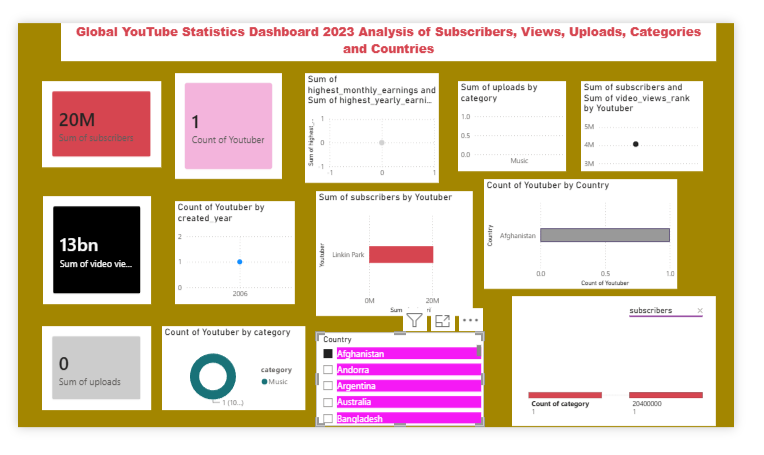

The dashboard page shown, as its layout file describes it:
{"tool":"powerbi","page":{"name":"Page 1","canvas":[1280,720],"ordinal":0},"visuals":[{"type":"cardVisual","fields":{"Data":["Sum(Global YouTube Statistics.subscribers)"]},"box":[42.9,103.6,212.5,153.6],"z":0},{"type":"cardVisual","fields":{"Data":["Sum(Global YouTube Statistics.video views)"]},"box":[44.6,308.9,192.9,192.9],"z":1000},{"type":"cardVisual","fields":{"Data":["Sum(Global YouTube Statistics.uploads)"]},"box":[42.9,541.1,194.6,150],"z":2000},{"type":"cardVisual","fields":{"Data":["Count(Global YouTube Statistics.Youtuber)"]},"box":[280.4,89.3,191.1,189.3],"z":3000},{"type":"clusteredBarChart","fields":{"Category":["Global YouTube Statistics.Youtuber"],"Y":["Sum(Global YouTube Statistics.subscribers)"]},"box":[532.1,300,280.4,223.2],"z":4000},{"type":"decompositionTreeVisual","fields":{"Analyze":["CountNonNull(Global YouTube Statistics.category)"],"ExplainBy":["Global YouTube Statistics.subscribers"]},"box":[882.1,487.5,364.3,232.1],"z":5000},{"type":"clusteredBarChart","fields":{"Y":["CountNonNull(Global YouTube Statistics.Youtuber)"],"Category":["Global YouTube Statistics.Country"]},"box":[832.1,278.6,344.6,196.4],"z":6000},{"type":"donutChart","fields":{"Category":["Global YouTube Statistics.category"],"Y":["CountNonNull(Global YouTube Statistics.Youtuber)"]},"box":[257.1,541.1,256,150],"z":7000},{"type":"scatterChart","fields":{"X":["Sum(Global YouTube Statistics.subscribers)"],"Y":["Sum(Global YouTube Statistics.video_views_rank)"],"Category":["Global YouTube Statistics.Youtuber"]},"box":[1005.4,103.6,217.9,160.7],"z":8000},{"type":"scatterChart","fields":{"X":["Sum(Global YouTube Statistics.highest_monthly_earnings)"],"Y":["Sum(Global YouTube Statistics.highest_yearly_earnings)"],"Category":["Global YouTube Statistics.Youtuber"]},"box":[512.5,89.3,239.3,196.4],"z":9000},{"type":"clusteredColumnChart","fields":{"Y":["Sum(Global YouTube Statistics.uploads)"],"Category":["Global YouTube Statistics.category"]},"box":[785.7,103.6,192.9,160.7],"z":10000},{"type":"lineChart","fields":{"Category":["Global YouTube Statistics.created_year"],"Y":["CountNonNull(Global YouTube Statistics.Youtuber)"]},"box":[280.4,317.9,214.3,183.9],"z":11000},{"type":"slicer","fields":{"Values":["Global YouTube Statistics.Country"]},"box":[532.1,551.8,300,167.9],"z":12000},{"type":"textbox","title":"Global YouTube Statistics Dashboard 2023 Analysis of Subscribers, Views, Uploads, Categories and Countries","box":[76.8,0,1169.6,67.9],"z":13000}]}

Visuals, with their boxes in screenshot pixels (x1, y1, x2, y2):
cardVisual - Sum(Global YouTube Statistics.subscribers): (36,79,157,166)
cardVisual - Sum(Global YouTube Statistics.video views): (37,195,147,305)
cardVisual - Sum(Global YouTube Statistics.uploads): (36,327,147,412)
cardVisual - Count(Global YouTube Statistics.Youtuber): (171,71,280,178)
clusteredBarChart - Global YouTube Statistics.Youtuber x Sum(Global YouTube Statistics.subscribers): (314,190,473,317)
decompositionTreeVisual - CountNonNull(Global YouTube Statistics.category) x Global YouTube Statistics.subscribers: (513,297,720,428)
clusteredBarChart - CountNonNull(Global YouTube Statistics.Youtuber) x Global YouTube Statistics.Country: (484,178,680,290)
donutChart - Global YouTube Statistics.category x CountNonNull(Global YouTube Statistics.Youtuber): (158,327,303,412)
scatterChart - Sum(Global YouTube Statistics.subscribers) x Sum(Global YouTube Statistics.video_views_rank): (583,79,706,170)
scatterChart - Sum(Global YouTube Statistics.highest_monthly_earnings) x Sum(Global YouTube Statistics.highest_yearly_earnings): (303,71,439,182)
clusteredColumnChart - Sum(Global YouTube Statistics.uploads) x Global YouTube Statistics.category: (458,79,568,170)
lineChart - Global YouTube Statistics.created_year x CountNonNull(Global YouTube Statistics.Youtuber): (171,200,293,305)
slicer - Global YouTube Statistics.Country: (314,333,484,429)
"Global YouTube Statistics Dashboard 2023 Analysis of Subscribers, Views, Uploads, Categories and Countries" textbox: (56,20,720,58)
